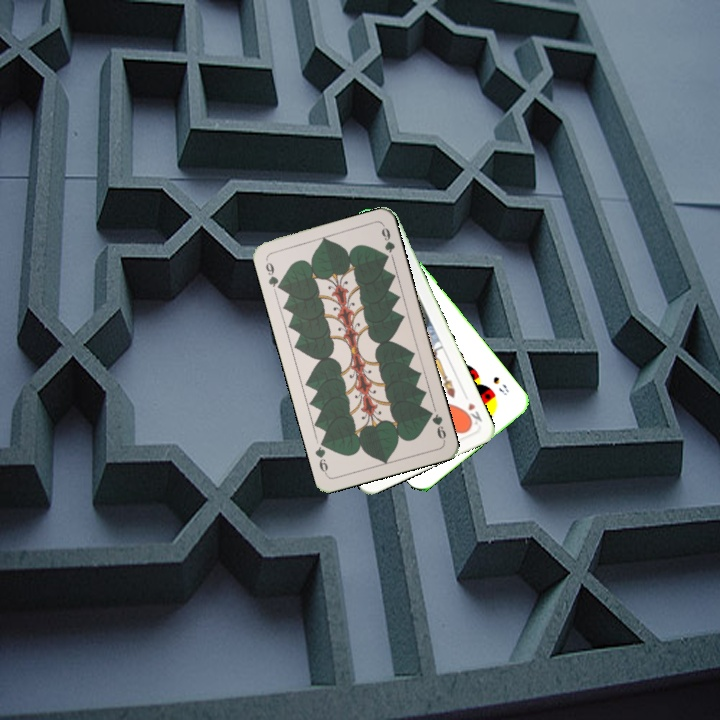G9: (424, 406, 449, 444), (261, 255, 285, 293)
HK: (460, 398, 485, 428)
S8: (489, 372, 512, 398)
